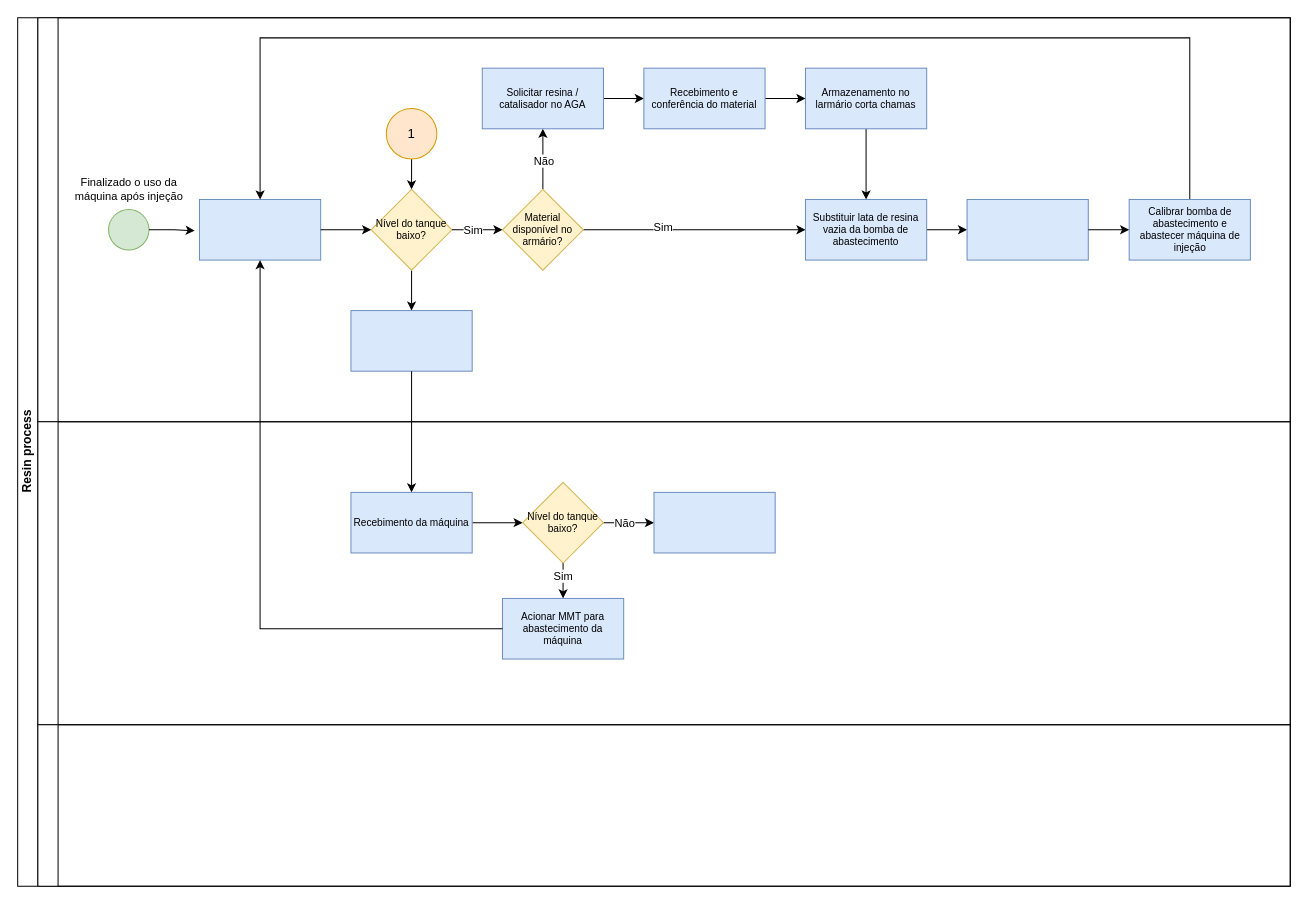
This 1308x904 diagram has some shape labels left out. The box of each missing label's shape, as (x1, y1, x2, y2) in pixels:
Avaliação da máquina: (198, 198, 321, 260)
CQ: (37, 724, 1290, 886)
Enviar máquina para MIP: (350, 310, 472, 371)
MIP: (37, 421, 1290, 725)
MMT: (37, 17, 1290, 422)
Romper lacre e posicionar nova lata de resina na bomba: (966, 198, 1088, 260)
